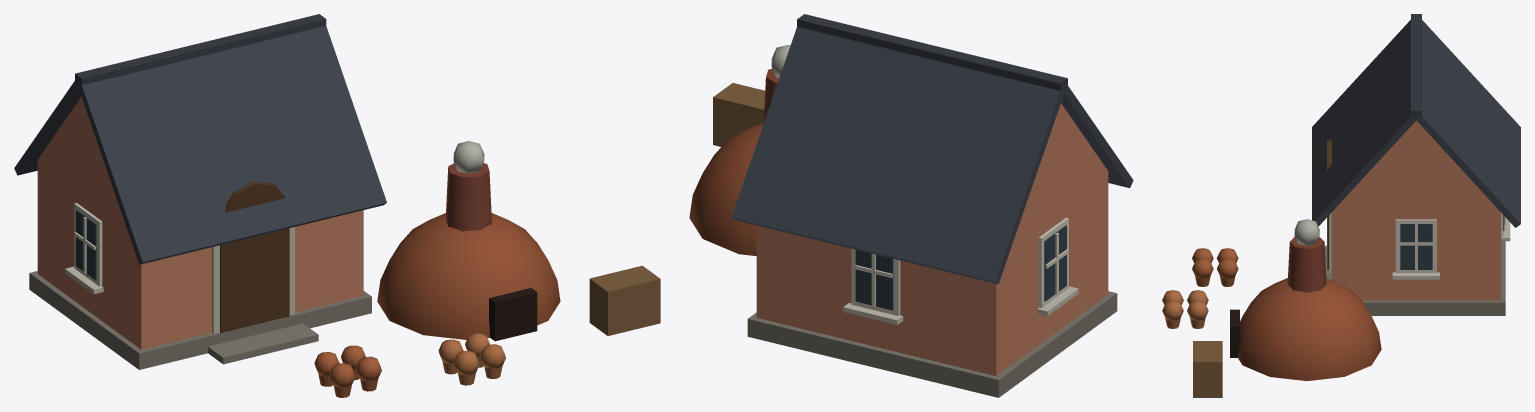
The model's file is procedural_pottery_kiln@4.glb.
3 renders of one model, left to right at view 1: azimuth 30°, elevation 25°; view 2: azimuth 150°, elevation 25°; view 3: azimuth 270°, elevation 25°, orthographic. The views are drawn at different scales.
Visible parts, largest first — view 1: part_0, part_4; view 2: part_0; view 3: part_0, part_4.
Part boxes in pixels (x1,y1,x2,y2): part_0: (14,14,660,397); part_4: (453,141,484,173); part_0: (689,14,1133,397); part_0: (1162,14,1520,397); part_4: (1294,219,1319,245).
Bounding box in the file's own units: 8.41 × 4.61 × 7.22.
